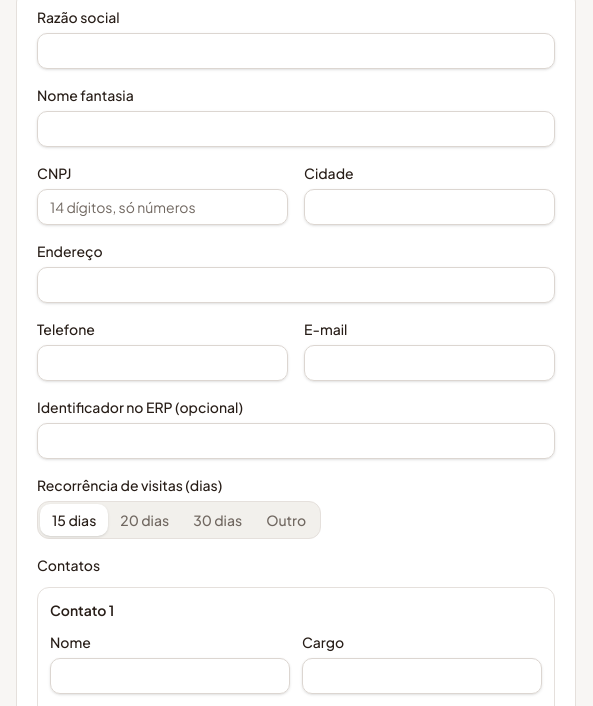
Test: NovoClientePage › recorrência oferece 15, 20, 30 e Outro
Click the radio button labelled "Outro" at (286, 520), box [254, 504, 318, 536]
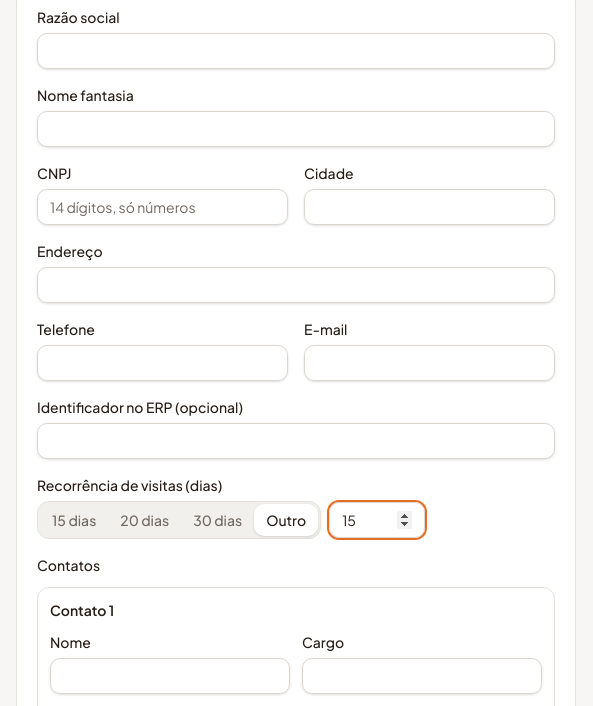
Replace the text in the number field labelled "Recorrência de visitas (dias)" with "45" at (377, 520), box [329, 502, 425, 538]
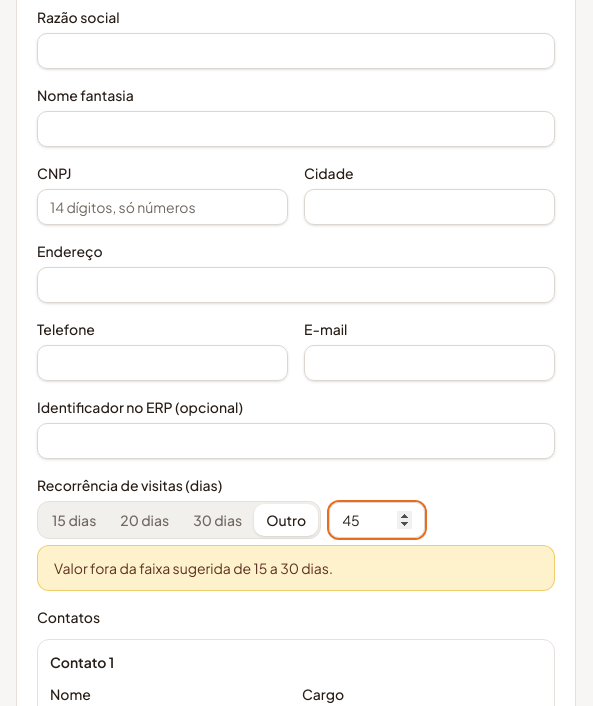
Now the text "Valor fora da faixa sugerida de 15 a 30 dias." is shown, box [37, 545, 555, 591]
Clear the number field labelled "Recorrência de visitas (dias)" at (377, 520), box [329, 502, 425, 538]
(page scrolled)
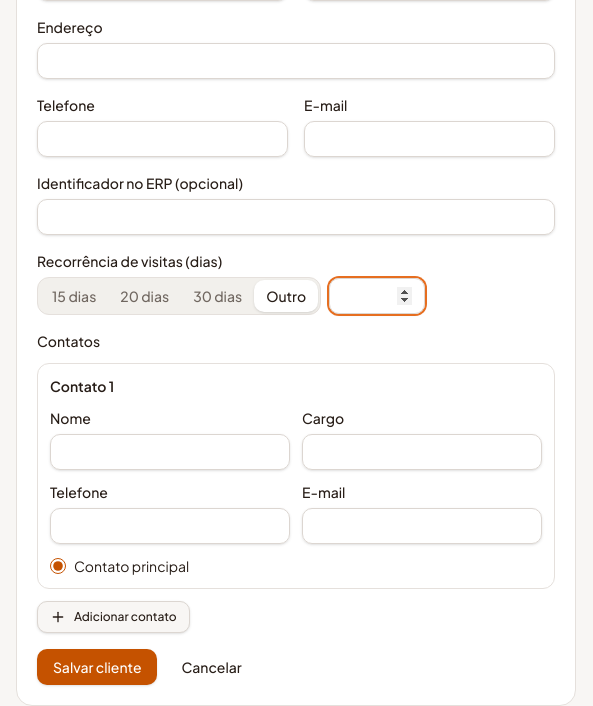
Click the button "Salvar cliente" at (97, 667), box [37, 649, 158, 685]
(page scrolled)
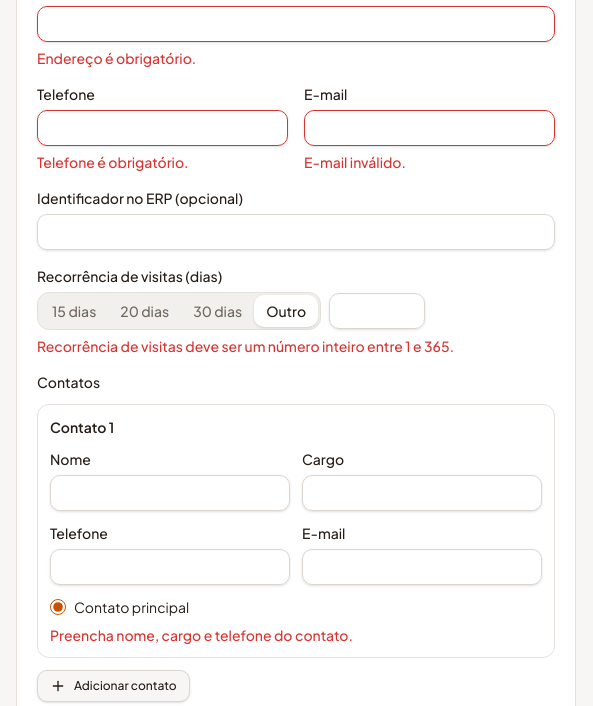
Now the text "Recorrência de visitas deve ser um número inteiro entre 1 e 365." is shown, box [37, 337, 454, 355]
